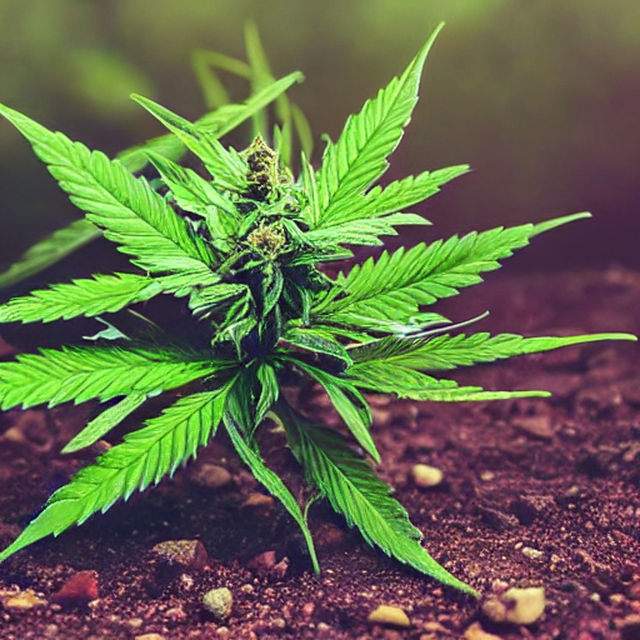Marijuana Plant: (64, 119, 625, 639)
